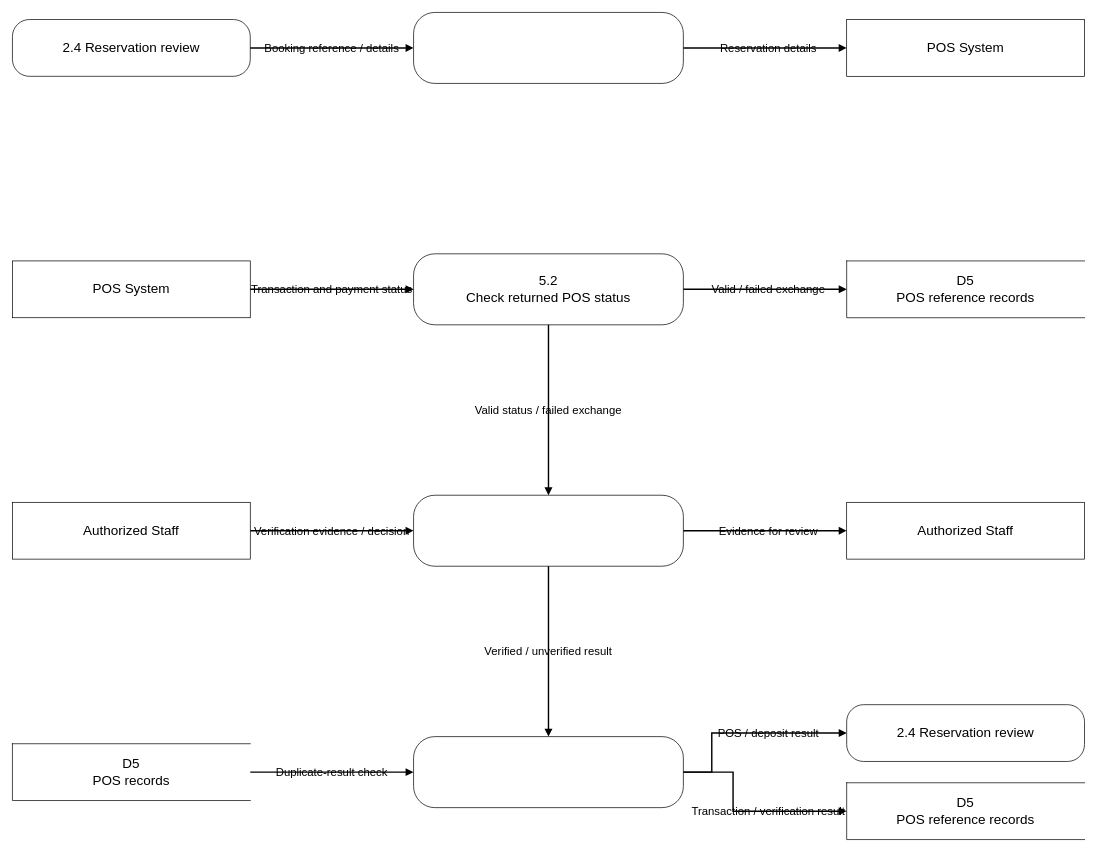
This 1097x852 diagram has some shape labels left out. The shapes that lost their labels are listed below. From the top down, each one's box as (x1, y1, x2, y2) in pixels, then its label:
(413, 12, 683, 83): 5.1 Send booking details to POS
(413, 495, 683, 566): 5.3 Review deposit evidence
(413, 736, 683, 808): 5.4 Save transaction and verification result
